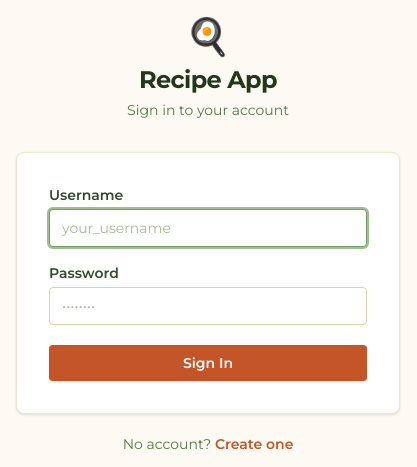
Scenario: LoginPage › button shows "Signing in…" and is disabled while login() is pending
The width and height of the screenshot is (417, 467).
Type "alice" into the field with placeholder "your_username" at (208, 228), box [49, 209, 367, 247]
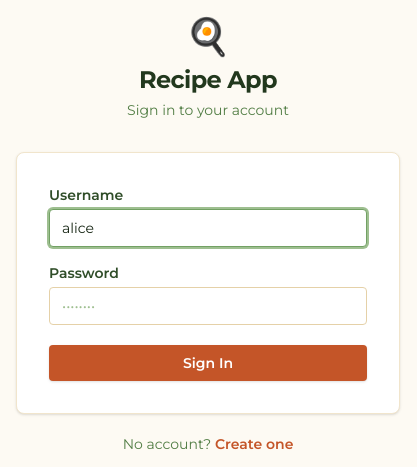
Type "pass" into the password field with placeholder "••••••••" at (208, 306), box [49, 287, 367, 325]
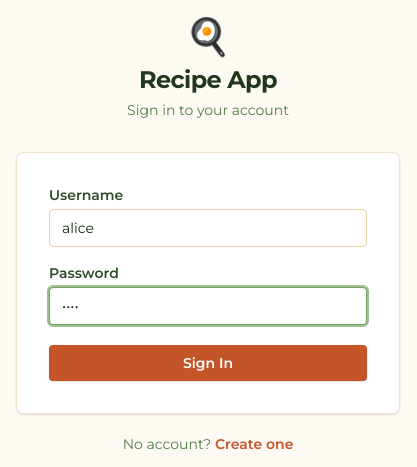
Click the button "Sign In" at (208, 363), box [49, 345, 367, 381]
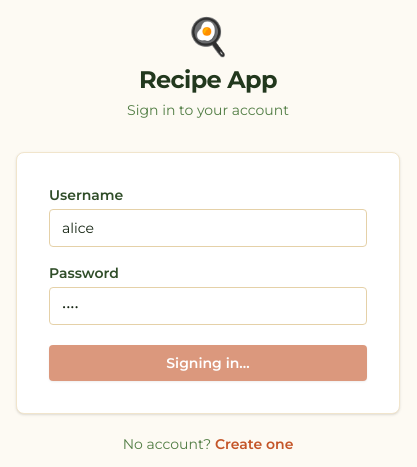
Expected: the button "Signing in…" is disabled, [49, 345, 367, 381]
